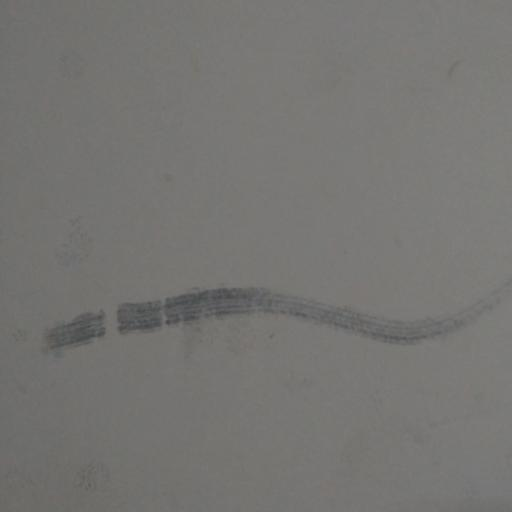stain: (32, 264, 512, 388)
